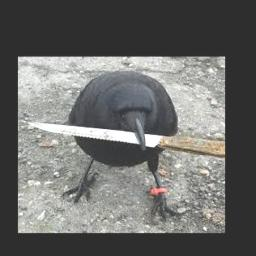Crow: (61, 70, 182, 220)
